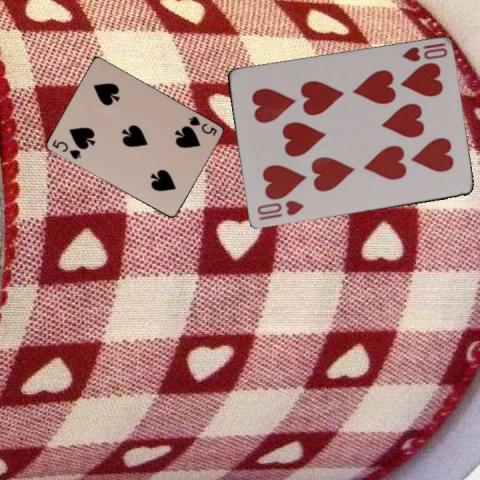10h: (254, 198, 305, 222), (398, 40, 449, 63)
5s: (49, 136, 82, 161), (185, 114, 218, 138)
